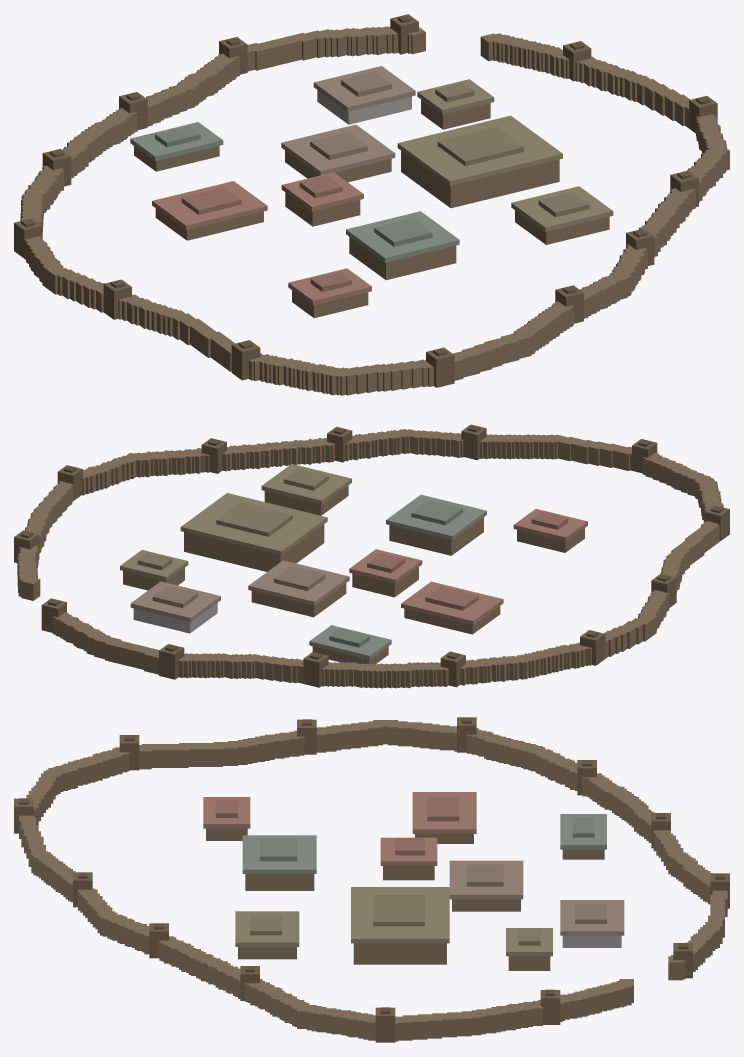
The model's file is ciudad_asentamiento_cultistas_poi_2358_474_01.glb.
The picture shows the model from 3 angles, top to bottom: view 1: azimuth 30°, elevation 25°; view 2: azimuth 150°, elevation 25°; view 3: azimuth 270°, elevation 25°; orthographic projection. The views are drawn at different scales.
Visible parts, largest first — view 1: ciudad_asentamiento_cultistas_poi_2358_474; view 2: ciudad_asentamiento_cultistas_poi_2358_474; view 3: ciudad_asentamiento_cultistas_poi_2358_474.
Boxes of the visible parts, x1,y1,x2,y2 form: ciudad_asentamiento_cultistas_poi_2358_474: [14, 14, 729, 395]; ciudad_asentamiento_cultistas_poi_2358_474: [14, 424, 729, 688]; ciudad_asentamiento_cultistas_poi_2358_474: [14, 717, 729, 1042].
Size of the model in its own units: 73.25 by 3.5 by 72.75.
